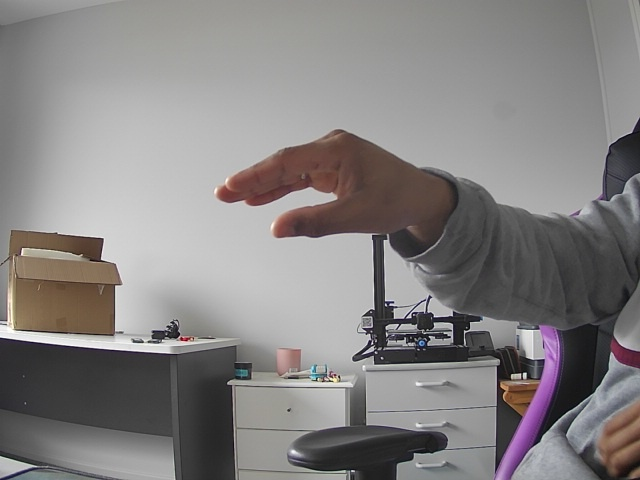No: (191, 120, 465, 250)
